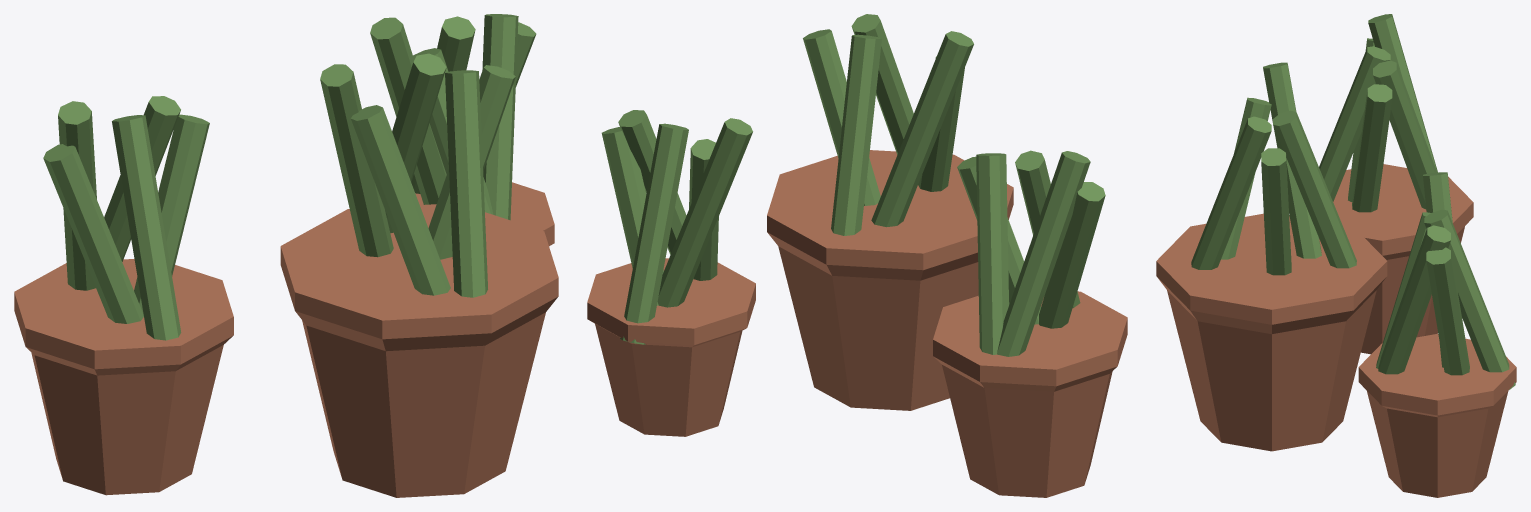
Rendered from herb_pots.glb.
The picture shows the model from 3 angles, left to right: view 1: azimuth 30°, elevation 25°; view 2: azimuth 150°, elevation 25°; view 3: azimuth 270°, elevation 25°; orthographic projection. The views are drawn at different scales.
Parts seen in each view (by area): view 1: herb_pots; view 2: herb_pots; view 3: herb_pots.
Part boxes in pixels (x1,y1,x2,y2): herb_pots: (14, 14, 558, 497); herb_pots: (587, 14, 1127, 497); herb_pots: (1156, 14, 1516, 497).
Size of the model in its own units: 0.928 by 0.6559 by 0.652.
